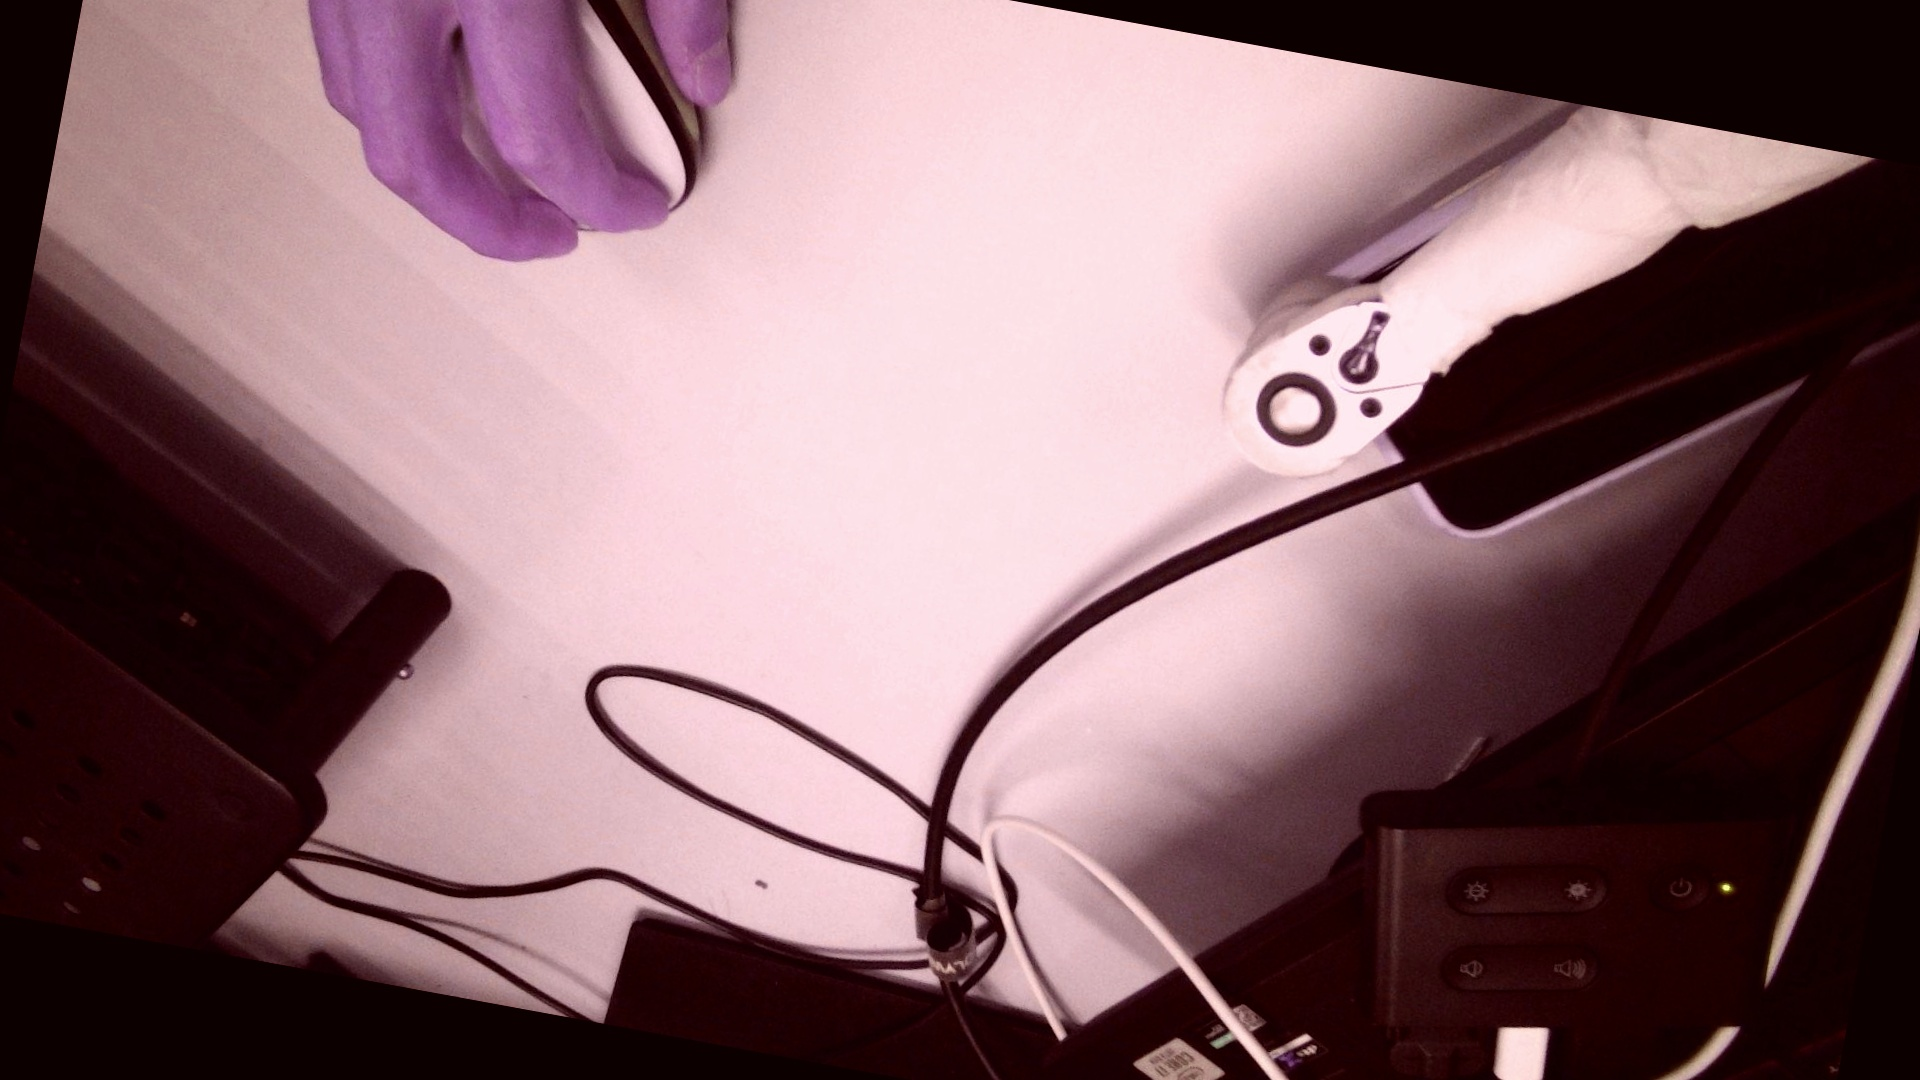wrench: (1254, 367, 1346, 455)
